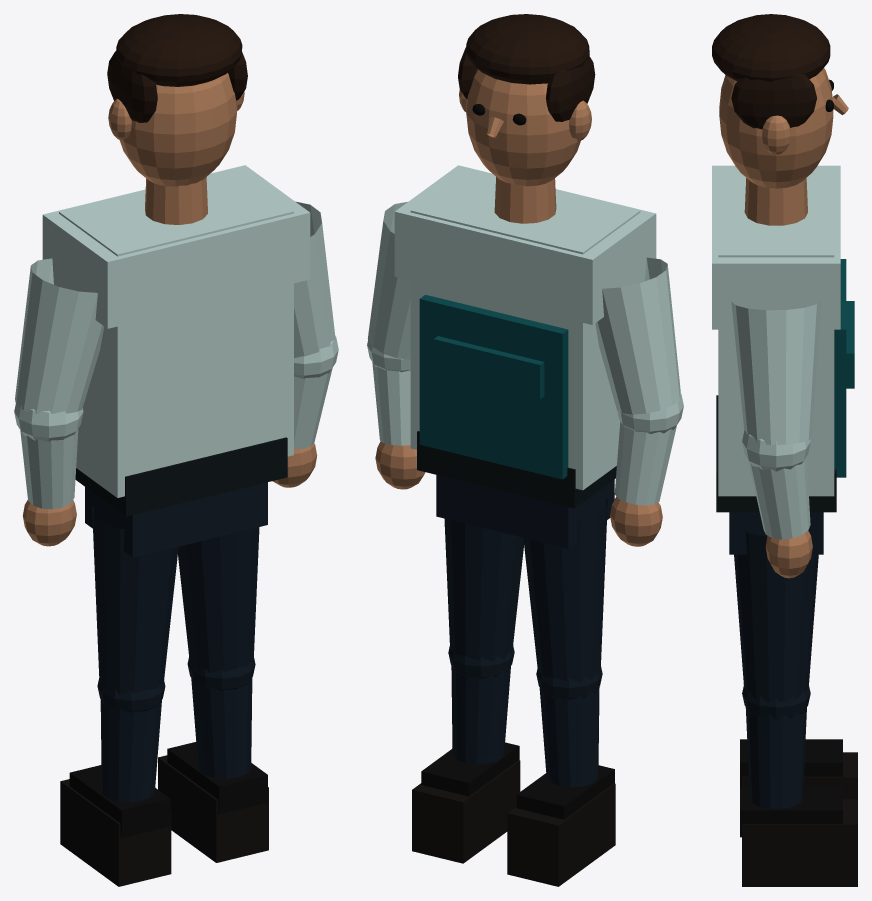
The model's file is medical_character.obj.
3 views of the same model, side by side, from view 1: azimuth 30°, elevation 25°; view 2: azimuth 150°, elevation 25°; view 3: azimuth 270°, elevation 25° (orthographic). The views are drawn at different scales.
Size of the model in its own units: 0.84 by 2.12 by 0.34.
